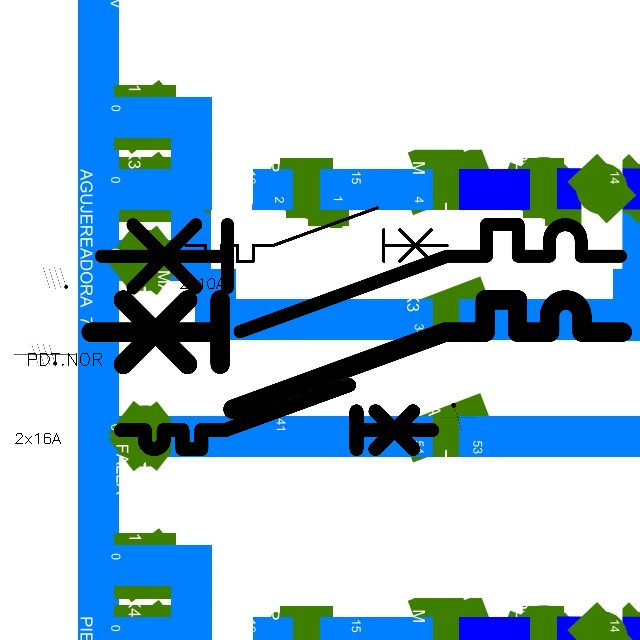interruptor_termomagnetico: (77, 286, 636, 423), (87, 211, 633, 344), (113, 377, 440, 457), (179, 201, 454, 268)
